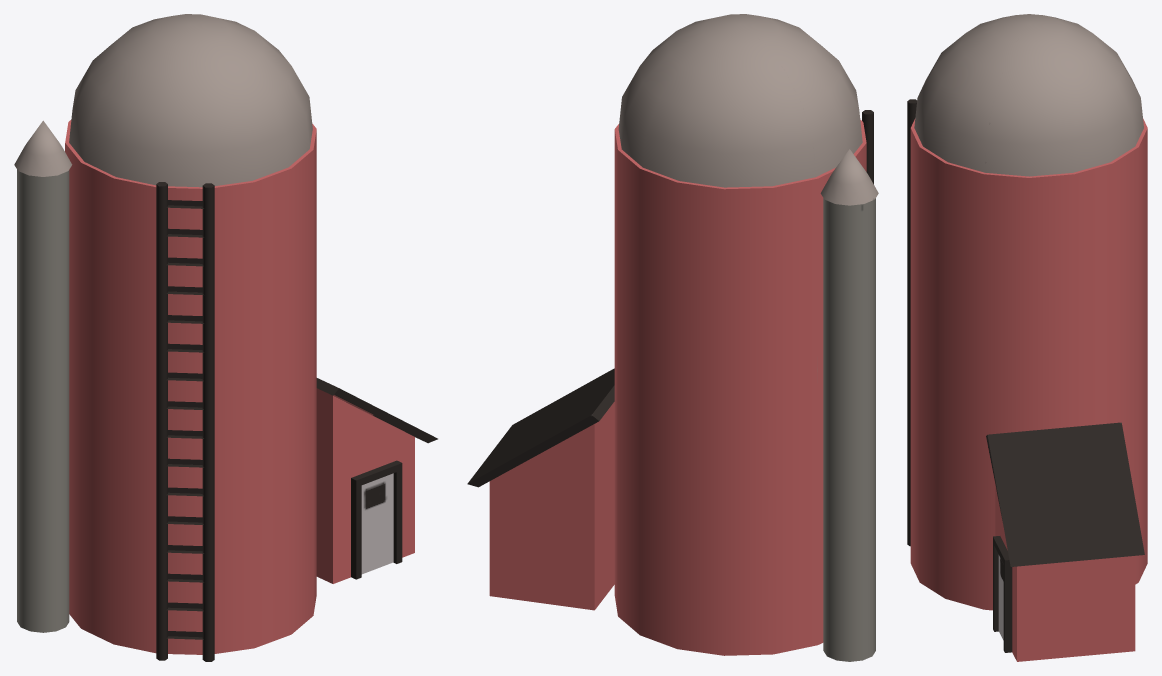
The model's file is Silo.fbx.
3 renders of one model, left to right at view 1: azimuth 30°, elevation 25°; view 2: azimuth 150°, elevation 25°; view 3: azimuth 270°, elevation 25°, orthographic. The views are drawn at different scales.
Visible parts, largest first — view 1: Silo; view 2: Silo; view 3: Silo.
Boxes of the visible parts, box(x1,y1,x2,y2) form: Silo: box(14, 14, 437, 661); Silo: box(467, 14, 878, 661); Silo: box(907, 14, 1147, 661).
Bounding box in the file's own units: 5.42 × 7.68 × 3.09.
